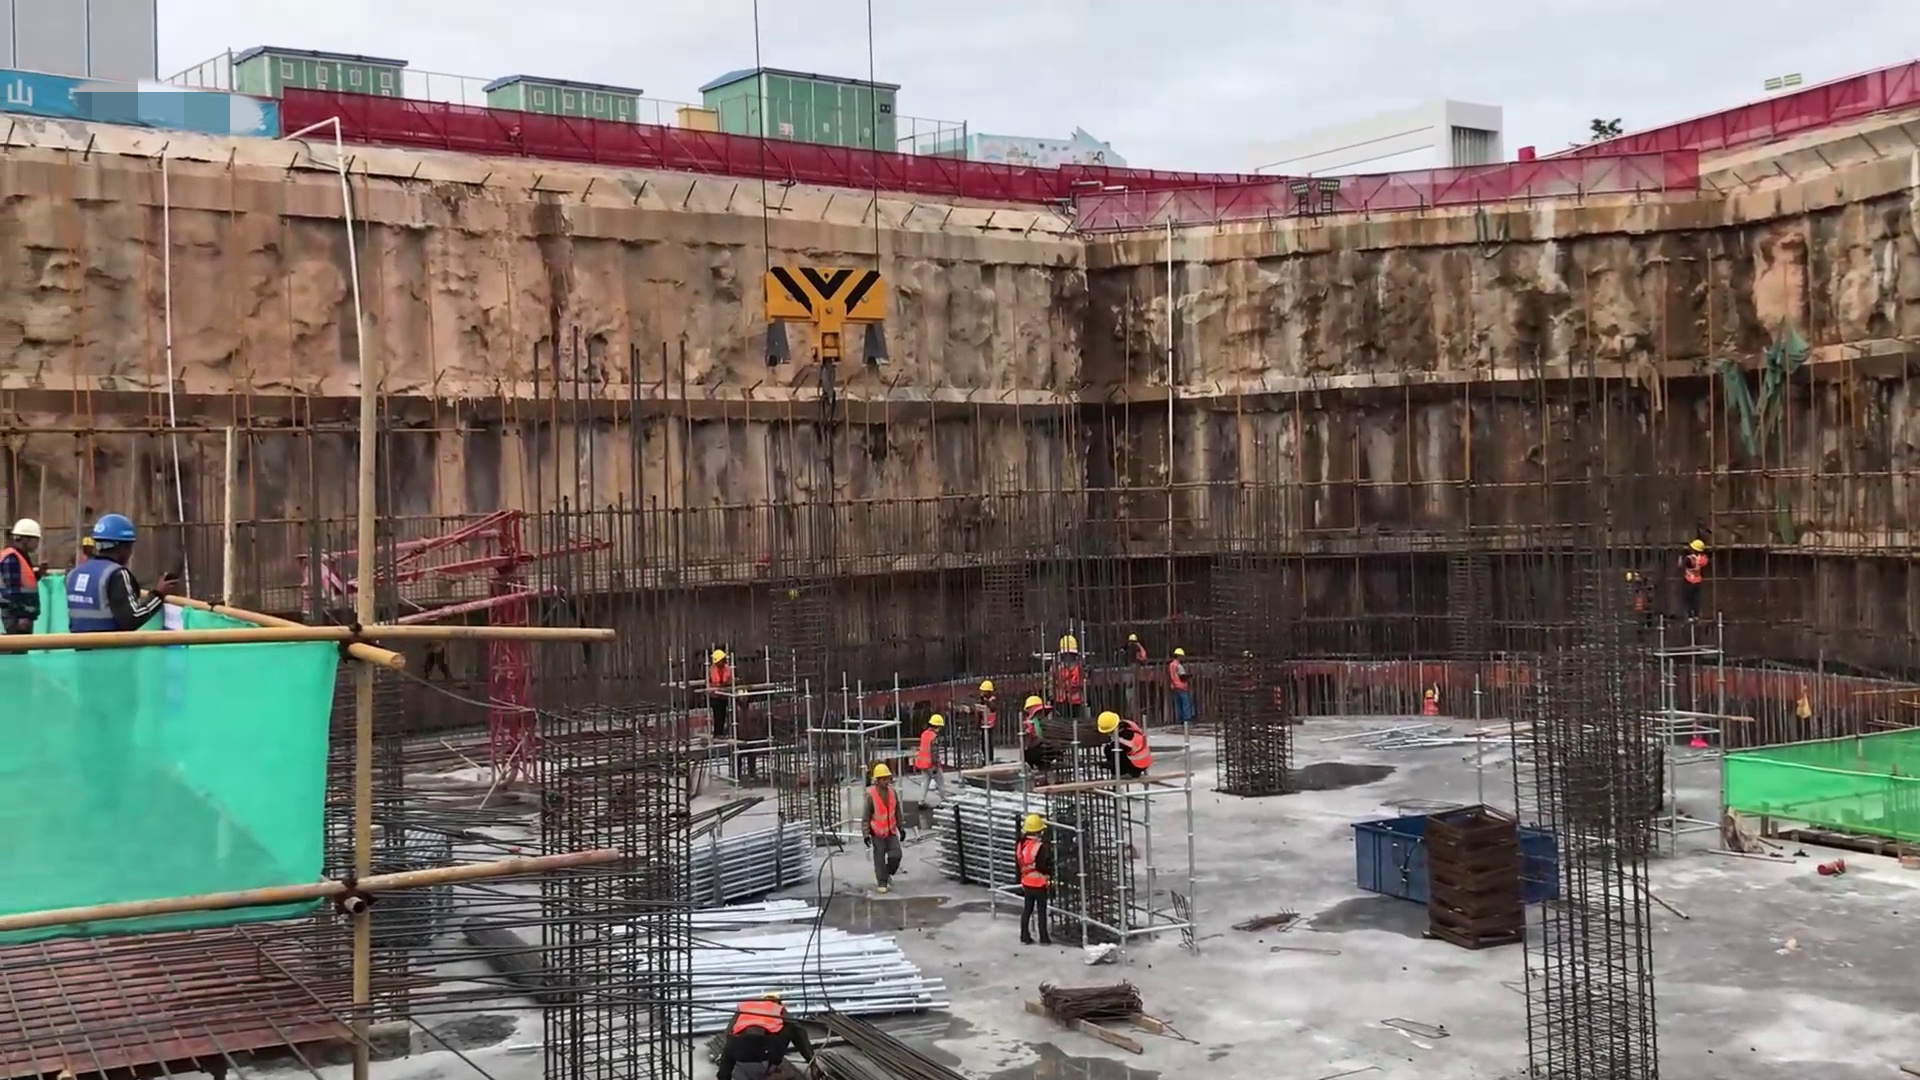ebox: (674, 105, 723, 136)
fence: (359, 92, 633, 160)
helmet: (91, 514, 143, 545), (10, 519, 44, 546), (1058, 629, 1081, 657), (1022, 814, 1049, 836), (1099, 708, 1119, 736), (868, 763, 893, 781), (929, 710, 946, 730), (1023, 694, 1044, 711), (710, 650, 727, 668), (979, 681, 995, 697), (1687, 538, 1705, 553), (1172, 647, 1187, 656)
hook: (758, 256, 896, 424)
hopper: (1345, 809, 1566, 909)
person: (66, 513, 176, 633), (712, 993, 817, 1080), (1014, 812, 1062, 949), (1, 517, 55, 631), (864, 762, 906, 897), (1049, 630, 1101, 716), (1675, 534, 1717, 619), (918, 712, 954, 809), (1016, 693, 1057, 774), (1098, 709, 1149, 776), (1165, 646, 1198, 733), (706, 645, 736, 739), (973, 676, 998, 763), (1419, 680, 1447, 717), (1121, 632, 1148, 663)
rebar: (812, 1004, 959, 1078), (1037, 976, 1150, 1027)
scaffold: (681, 822, 820, 911), (939, 787, 1015, 883)
slogan: (1, 72, 299, 135)
vest: (66, 559, 142, 631), (2, 550, 45, 627), (1015, 838, 1052, 895), (1118, 718, 1153, 773), (866, 785, 901, 839), (1056, 664, 1093, 705), (916, 731, 939, 773), (1685, 553, 1712, 588), (1171, 659, 1194, 694), (707, 664, 738, 686), (1422, 697, 1438, 716)
